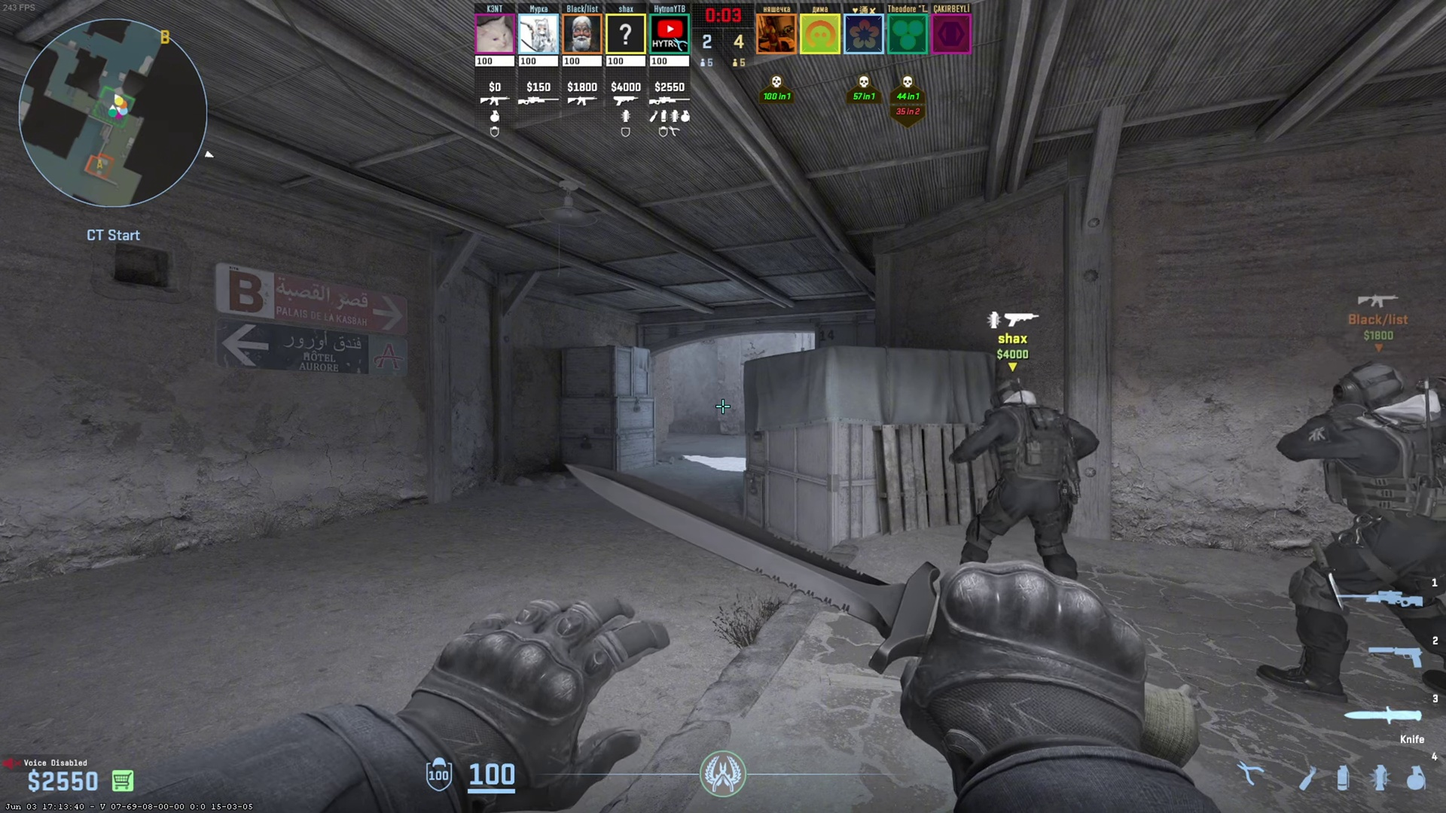CT: (1255, 363, 1446, 695), (959, 380, 1077, 564)
